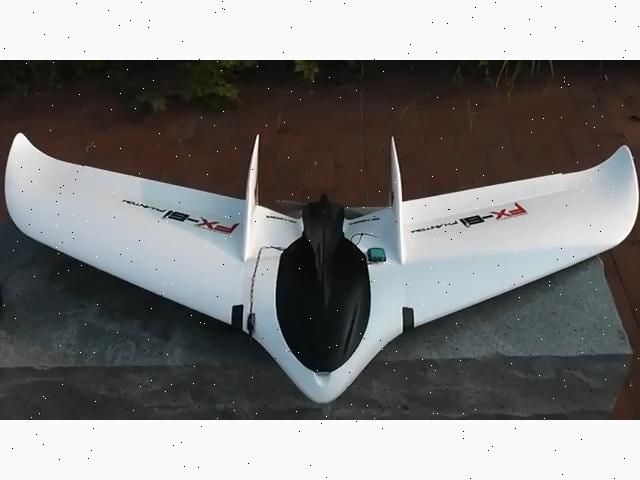Anti-Drone: (2, 115, 640, 419)
